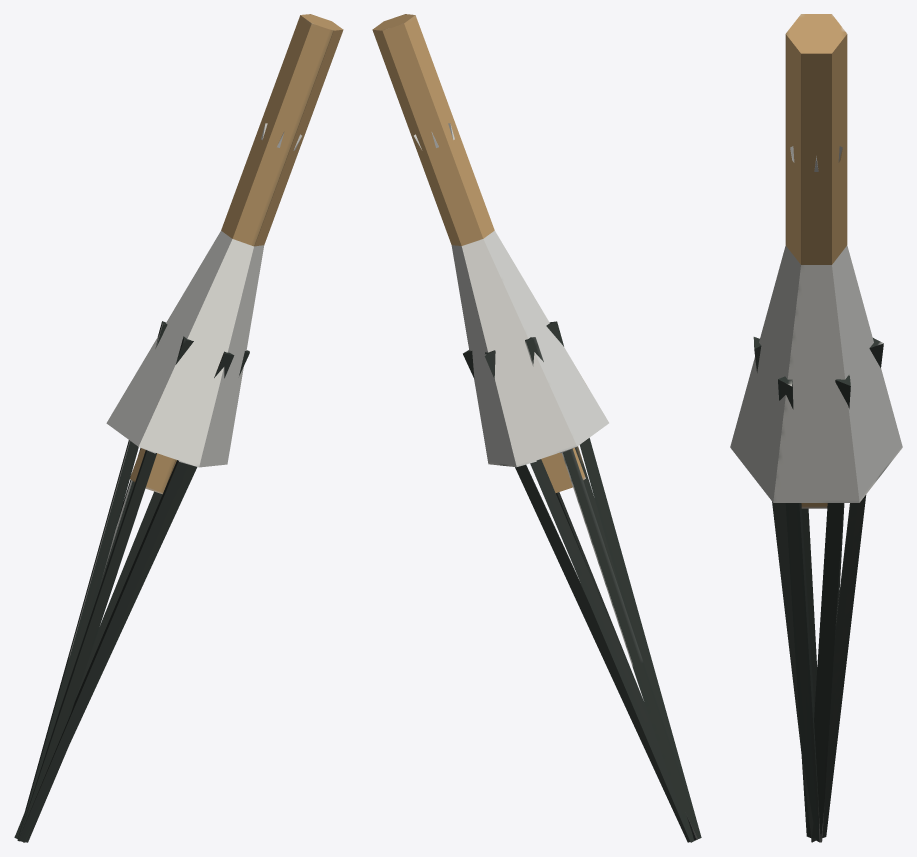
File: slunecnik_884a2ac1.glb
The picture shows the model from 3 angles, left to right: view 1: azimuth 30°, elevation 25°; view 2: azimuth 150°, elevation 25°; view 3: azimuth 270°, elevation 25°; orthographic projection. The views are drawn at different scales.
Visible parts, largest first — view 1: dum; view 2: dum; view 3: dum.
Boxes of the visible parts, x1,y1,x2,y2 form: dum: (14, 14, 343, 842); dum: (372, 14, 701, 842); dum: (730, 14, 902, 842).
Bounding box in the file's own units: 0.4032 × 0.9027 × 0.1396.
Materials: 1 (1 with a texture image).
